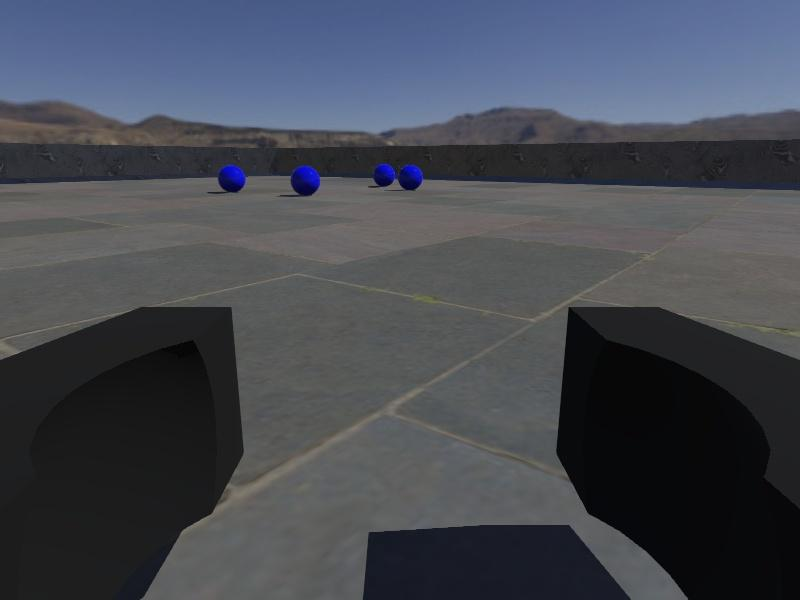blue ball: (290, 165, 321, 196), (217, 164, 246, 193), (398, 163, 423, 190), (373, 162, 396, 187)
